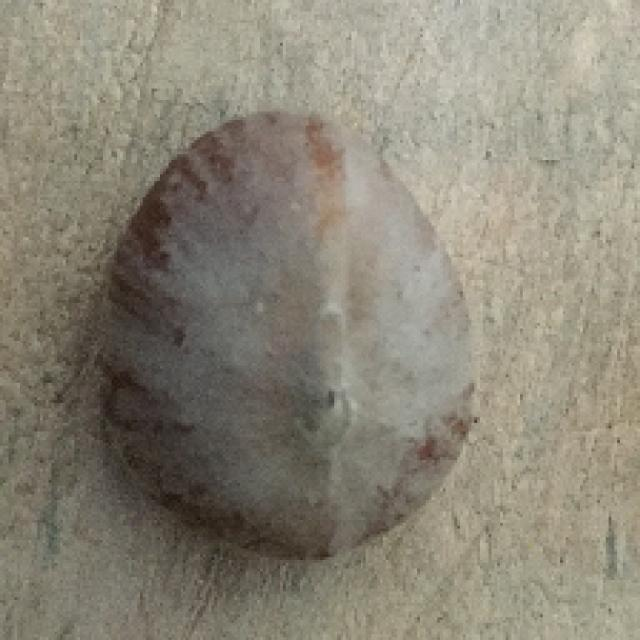qualityHazelnut: (83, 112, 480, 568)
